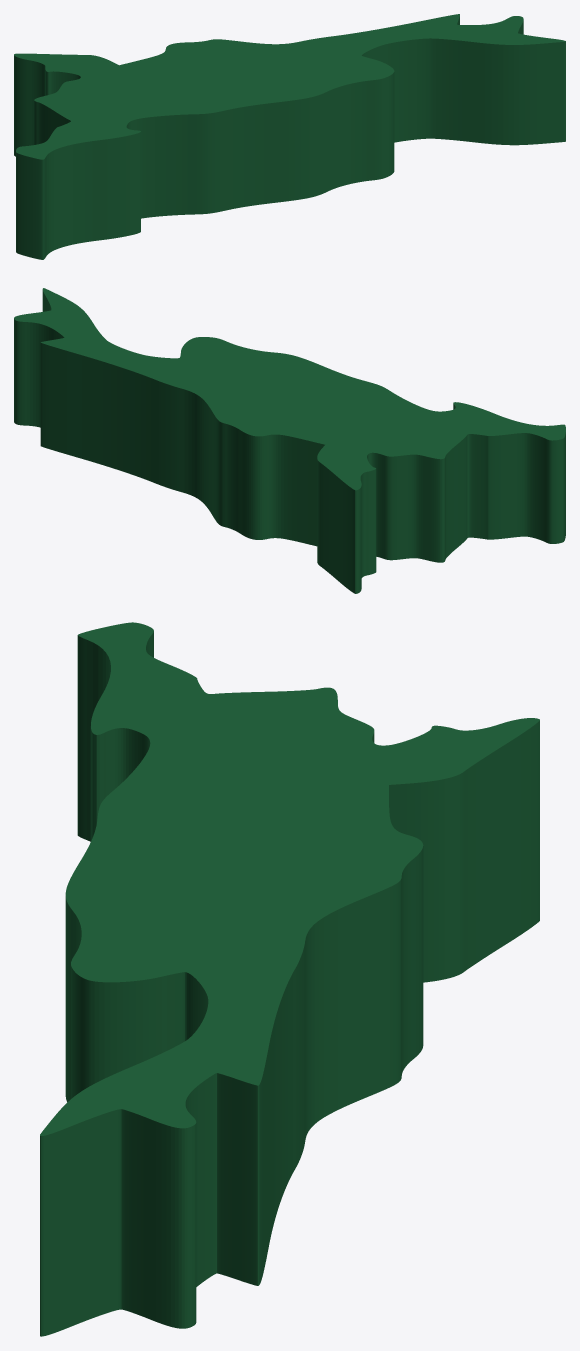
3 renders of one model, top to bottom at view 1: azimuth 30°, elevation 25°; view 2: azimuth 150°, elevation 25°; view 3: azimuth 270°, elevation 25°, orthographic. The views are drawn at different scales.
Visible parts, largest first — view 1: Curve.040_path4262; view 2: Curve.040_path4262; view 3: Curve.040_path4262.
Part boxes in pixels (x1=…): Curve.040_path4262: x1=14, y1=14, x2=565, y2=259; Curve.040_path4262: x1=14, y1=288, x2=565, y2=593; Curve.040_path4262: x1=40, y1=622, x2=539, y2=1336.
Size of the model in its own units: 0.5497 by 0.1 by 0.2263.
